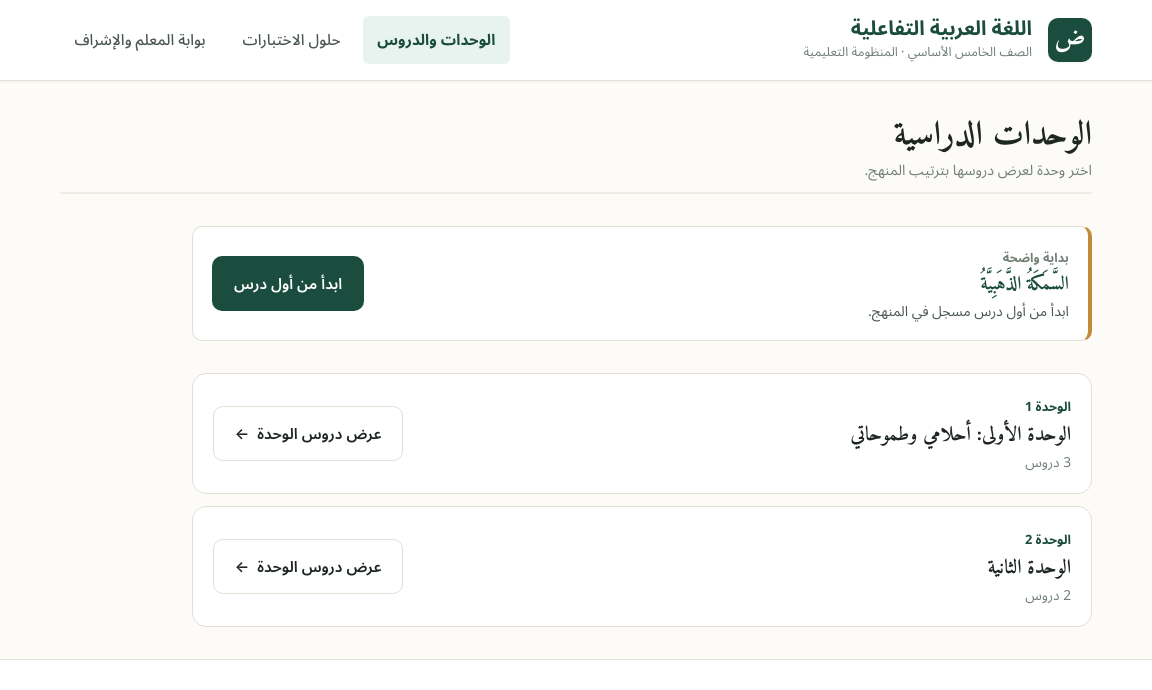
Unit 2 Lesson 2 — الذَّكاءُ الاصطِناعيُّ source-lock implementation › opens the lesson from the home curriculum list without offering a Unit 2 test
Click the button with aria-label "عرض دروس الوحدة الثانية" at (308, 567), box 213,539 -> 403,594
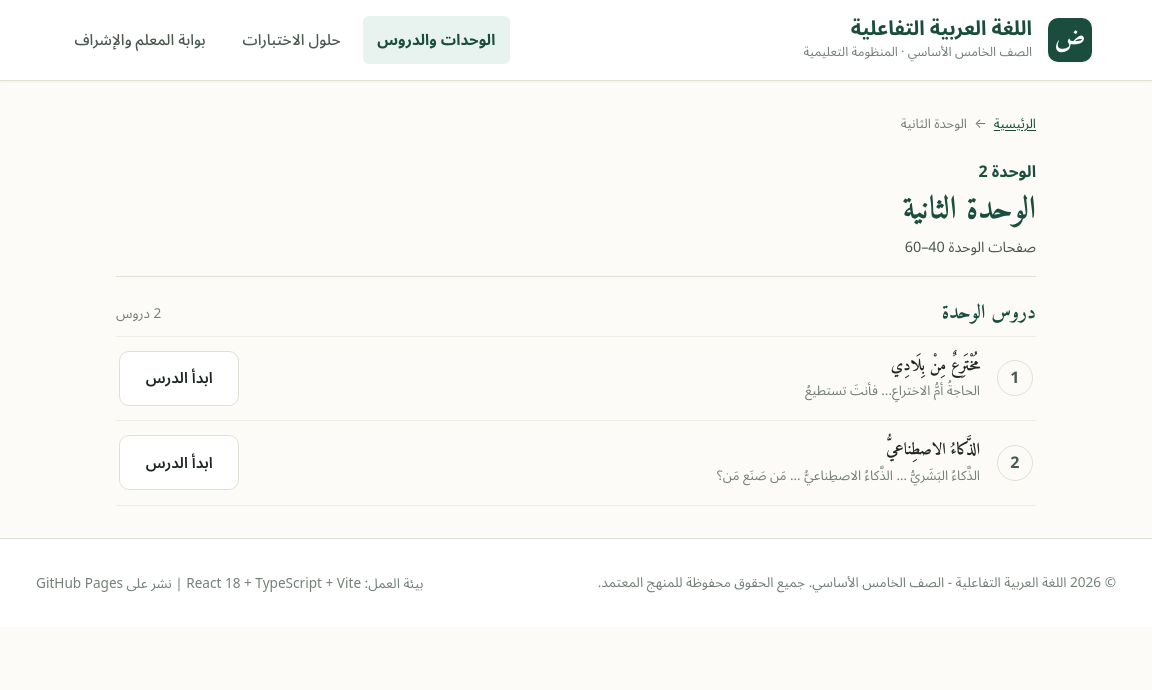
Click the button with aria-label "ابدأ الدرس 2: الذَّكاءُ الاصطِناعيُّ" at (179, 463), box 119,436 -> 239,490
(page scrolled)
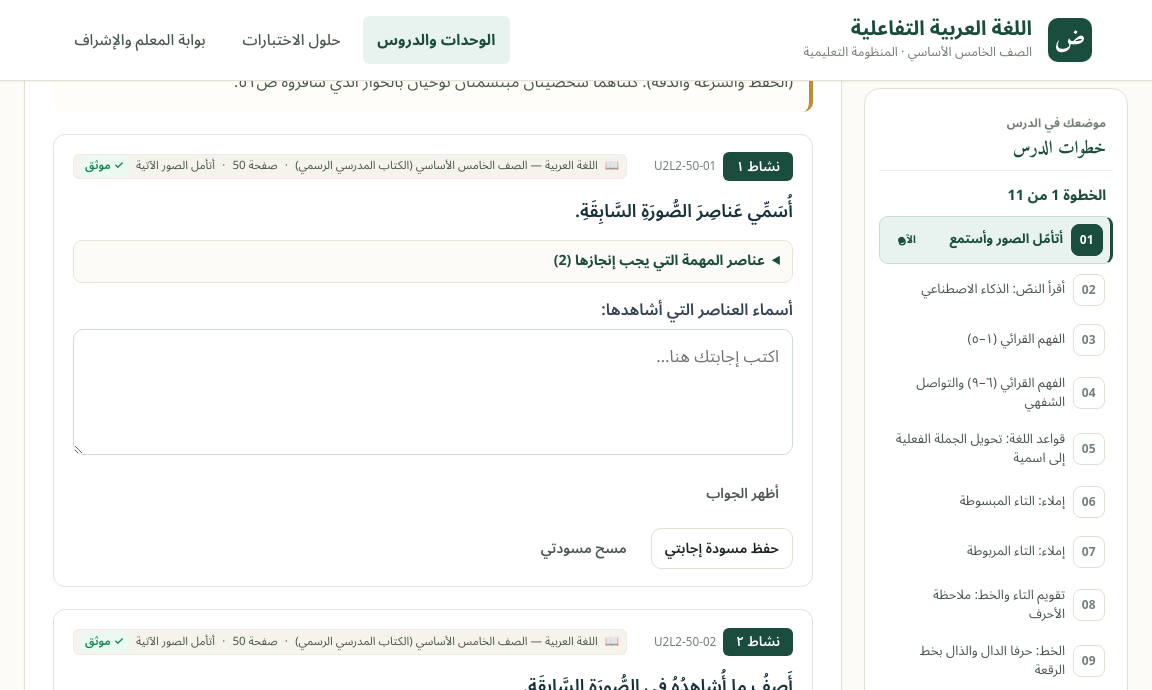
Expected: the number of buttons "01 أتأمّل الصور وأستمع الآن" is 11
Expected: the element named "نشاط المصدر U2L2-50-01" is shown, 53,134 -> 813,587
